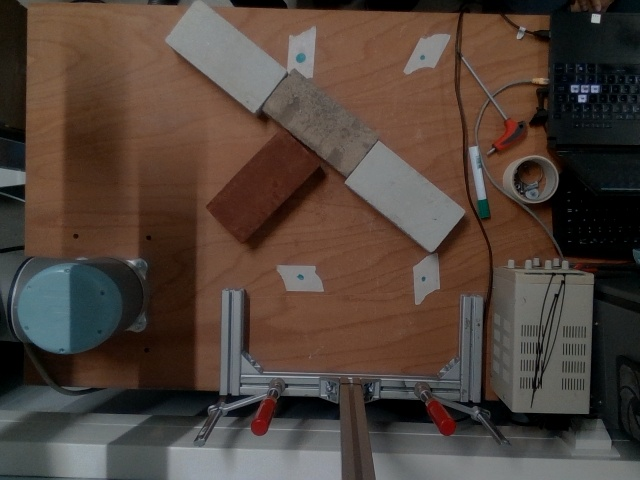brick: (169, 3, 280, 106), (349, 146, 459, 246), (213, 130, 314, 236), (266, 75, 372, 172)
